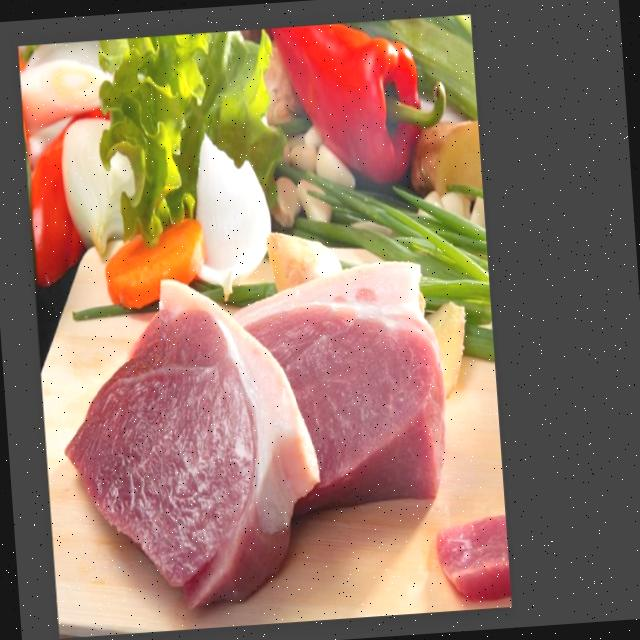meat: (68, 271, 310, 612), (224, 253, 464, 512), (438, 512, 514, 600)
